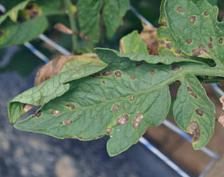Tomato Early blight leaf: (5, 53, 194, 152), (159, 0, 224, 64), (172, 68, 218, 152), (0, 0, 60, 47)
